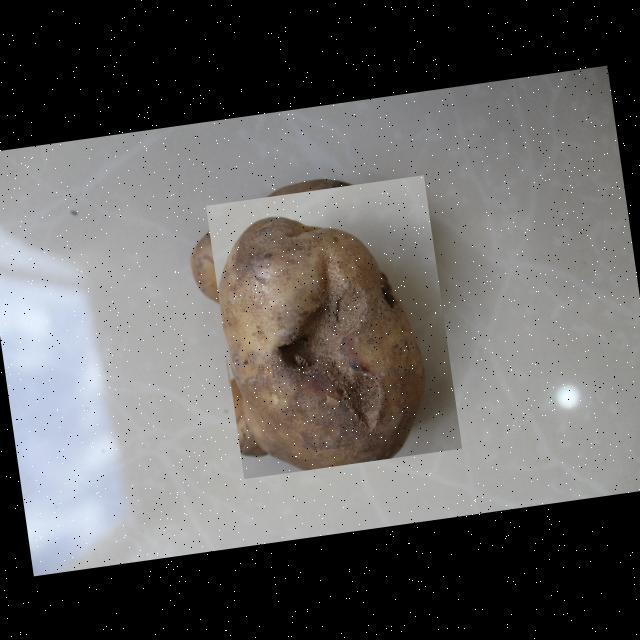Damaged potato: (204, 174, 462, 478)
